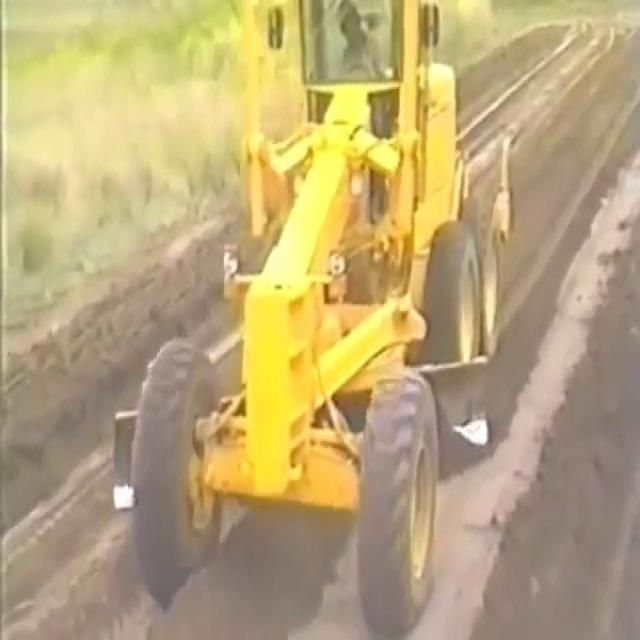buldozerpayloadergrader: (113, 2, 510, 633)
